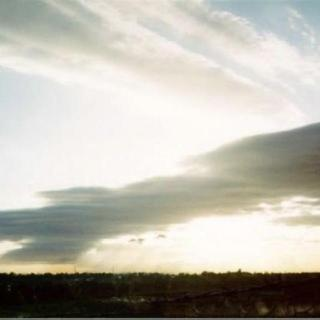Stratocumulus: (0, 0, 319, 264)
